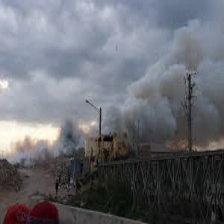smoke: (95, 24, 218, 141)
